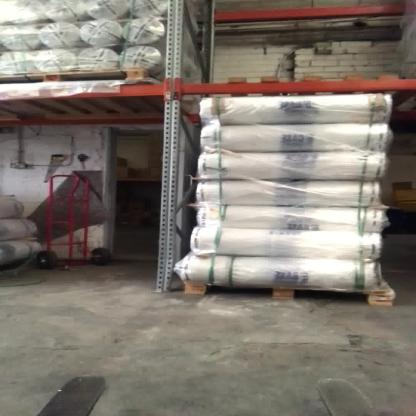vertical_damage: (153, 253, 184, 300)
